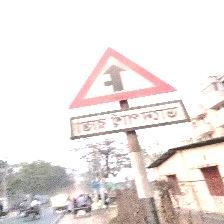Side-road-right: (70, 47, 188, 140)
